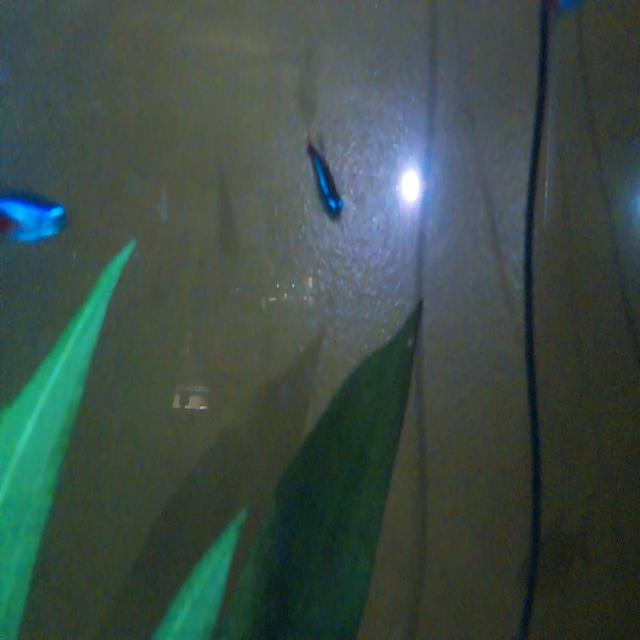fish: (290, 126, 350, 237)
